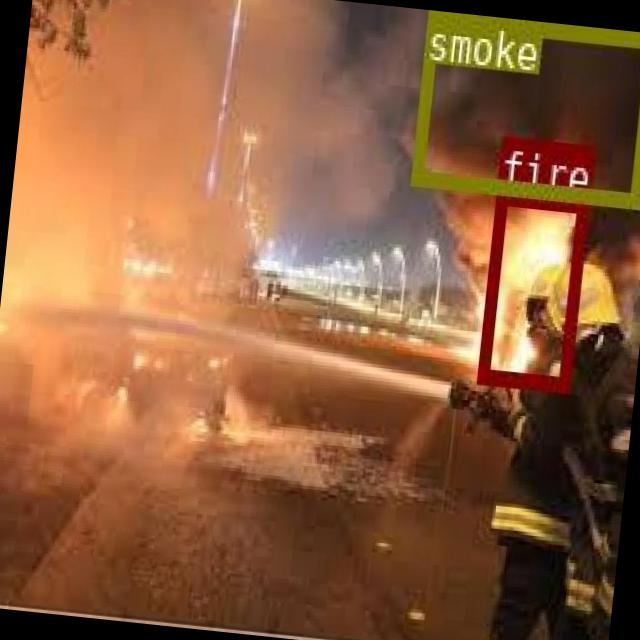fire: (476, 188, 586, 388)
smoke: (409, 9, 640, 203)
